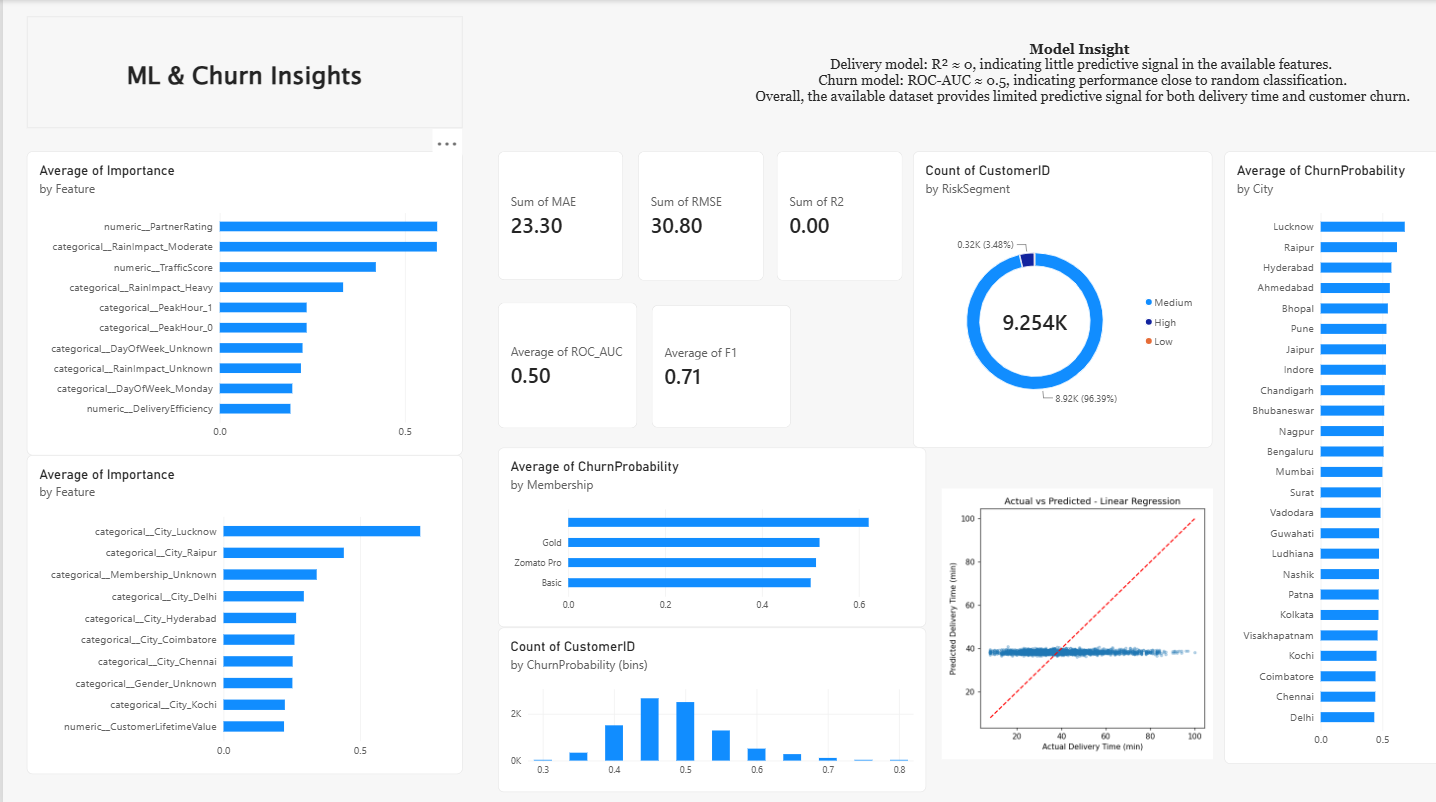

The dashboard page shown, as its layout file describes it:
{"tool":"powerbi","page":{"name":"ML & Churn Insights","canvas":[1920,1080],"ordinal":5},"visuals":[{"type":"cardVisual","fields":{"Data":["Sum(model_comparison_delivery_tuned.MAE)"]},"box":[662,202,167.5,172.5],"z":0},{"type":"cardVisual","fields":{"Data":["Sum(model_comparison_delivery_tuned.RMSE)"]},"box":[848,202,168,173],"z":1000},{"type":"cardVisual","fields":{"Data":["Sum(model_comparison_delivery_tuned.R2)"]},"box":[1034,202,168,173],"z":2000},{"type":"clusteredBarChart","fields":{"Category":["feature_importance_delivery.Feature"],"Y":["Avg(feature_importance_delivery.Importance)"]},"box":[32,202,582,406],"z":3000},{"type":"image","box":[1254,646,362,374],"z":4000},{"type":"cardVisual","fields":{"Data":["Avg(model_comparison_churn.F1)"]},"box":[866,408,186,164],"z":5000},{"type":"cardVisual","fields":{"Data":["Avg(model_comparison_churn.ROC_AUC)"]},"box":[662,404,186,168],"z":6000},{"type":"donutChart","fields":{"Category":["churn_predictions.RiskSegment"],"Y":["CountNonNull(churn_predictions.CustomerID)"]},"box":[1216,202,400,396],"z":7000},{"type":"clusteredColumnChart","fields":{"Category":["churn_predictions.ChurnProbability (bins)"],"Y":["CountNonNull(churn_predictions.CustomerID)"]},"box":[662,838,572,220],"z":8000},{"type":"clusteredBarChart","fields":{"Category":["feature_importance_churn.Feature"],"Y":["Avg(feature_importance_churn.Importance)"]},"box":[32,608,582,426],"z":9000},{"type":"clusteredBarChart","fields":{"Category":["customer_analytics.Membership"],"Y":["Avg(churn_predictions.ChurnProbability)"]},"box":[662,598,572,240],"z":10000},{"type":"clusteredBarChart","fields":{"Category":["customer_analytics.City"],"Y":["Avg(churn_predictions.ChurnProbability)"]},"box":[1632,202,288,818],"z":11000},{"type":"textbox","box":[960,36,960,136],"z":12000},{"type":"textbox","box":[32,22,582,150],"z":13000}]}

Visuals, with their boxes in screenshot pixels (x1, y1, x2, y2), scaled from the page's 1920x1080 canvas onto the 1436x802 screenshot:
cardVisual - Sum(model_comparison_delivery_tuned.MAE): (x1=495, y1=150, x2=620, y2=278)
cardVisual - Sum(model_comparison_delivery_tuned.RMSE): (x1=634, y1=150, x2=760, y2=278)
cardVisual - Sum(model_comparison_delivery_tuned.R2): (x1=773, y1=150, x2=899, y2=278)
clusteredBarChart - feature_importance_delivery.Feature x Avg(feature_importance_delivery.Importance): (x1=24, y1=150, x2=459, y2=451)
image: (x1=938, y1=480, x2=1209, y2=757)
cardVisual - Avg(model_comparison_churn.F1): (x1=648, y1=303, x2=787, y2=425)
cardVisual - Avg(model_comparison_churn.ROC_AUC): (x1=495, y1=300, x2=634, y2=425)
donutChart - churn_predictions.RiskSegment x CountNonNull(churn_predictions.CustomerID): (x1=909, y1=150, x2=1209, y2=444)
clusteredColumnChart - churn_predictions.ChurnProbability (bins) x CountNonNull(churn_predictions.CustomerID): (x1=495, y1=622, x2=923, y2=786)
clusteredBarChart - feature_importance_churn.Feature x Avg(feature_importance_churn.Importance): (x1=24, y1=451, x2=459, y2=768)
clusteredBarChart - customer_analytics.Membership x Avg(churn_predictions.ChurnProbability): (x1=495, y1=444, x2=923, y2=622)
clusteredBarChart - customer_analytics.City x Avg(churn_predictions.ChurnProbability): (x1=1221, y1=150, x2=1435, y2=757)
textbox: (x1=718, y1=27, x2=1435, y2=128)
textbox: (x1=24, y1=16, x2=459, y2=128)
